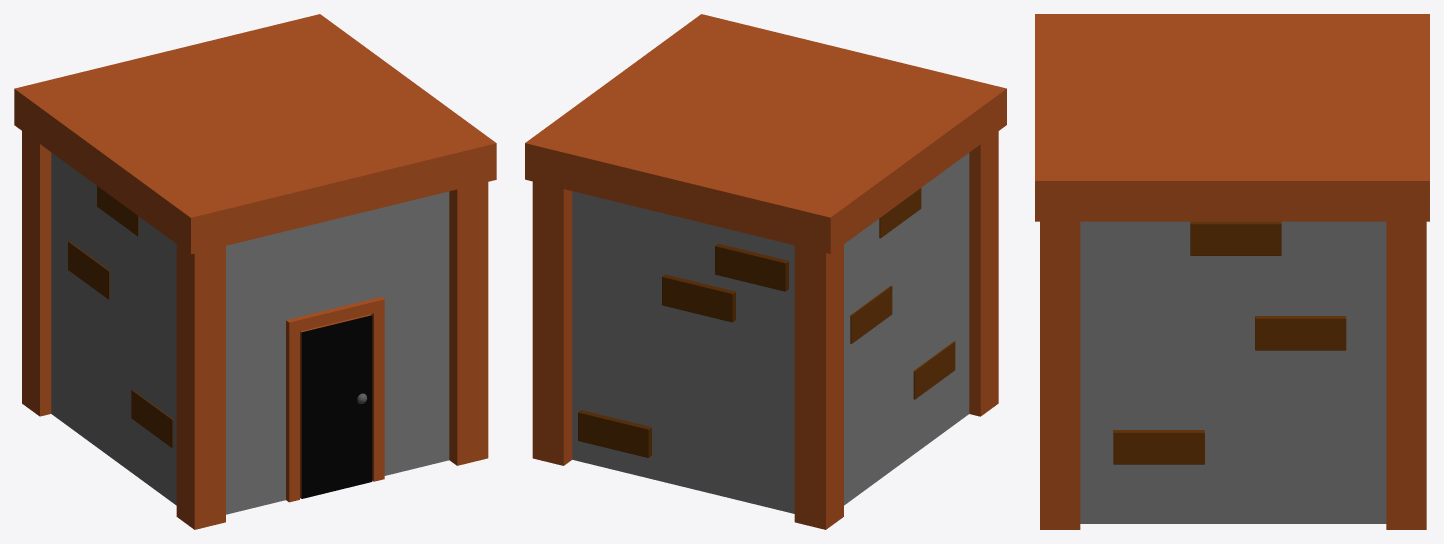
The model's file is casafavela.fbx.
3 renders of one model, left to right at view 1: azimuth 30°, elevation 25°; view 2: azimuth 150°, elevation 25°; view 3: azimuth 270°, elevation 25°, orthographic. The views are drawn at different scales.
Parts seen in each view (by area): view 1: Cube, Cube.001, Cube.003, Cube.008, Cube.002, Cube.007, Cube.005, Cube.006; view 2: Cube, Cube.001, Cube.002, Cube.003, Cube.004, Cube.005; view 3: Cube, Cube.001, Cube.002, Cube.003, Cube.005.
Boxes of the visible parts, x1=… form: Cube: x1=51, y1=152, x2=449, y2=514; Cube.001: x1=14, y1=14, x2=496, y2=254; Cube.003: x1=176, y1=182, x2=488, y2=529; Cube.008: x1=300, y1=314, x2=372, y2=498; Cube.002: x1=22, y1=131, x2=51, y2=416; Cube.007: x1=286, y1=310, x2=384, y2=502; Cube.005: x1=68, y1=186, x2=173, y2=447; Cube.006: x1=286, y1=297, x2=384, y2=333; Cube: x1=572, y1=153, x2=969, y2=513; Cube.001: x1=525, y1=14, x2=1006, y2=253; Cube.002: x1=532, y1=181, x2=843, y2=529; Cube.003: x1=969, y1=131, x2=998, y2=416; Cube.004: x1=578, y1=243, x2=788, y2=457; Cube.005: x1=850, y1=188, x2=955, y2=399; Cube: x1=1080, y1=221, x2=1386, y2=523; Cube.001: x1=1035, y1=14, x2=1429, y2=221; Cube.002: x1=1386, y1=221, x2=1426, y2=529; Cube.003: x1=1040, y1=221, x2=1080, y2=529; Cube.005: x1=1113, y1=221, x2=1346, y2=464.
Size of the model in its own units: 226 by 223 by 226.
